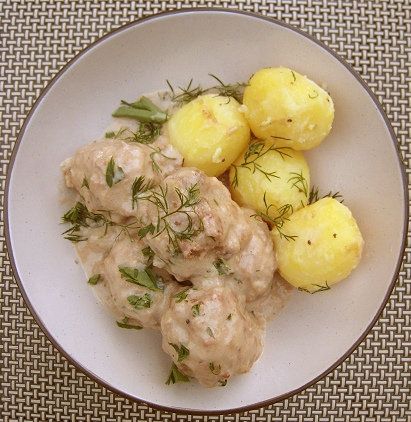boiled potatoes: (243, 167, 364, 286), (183, 98, 317, 163)
